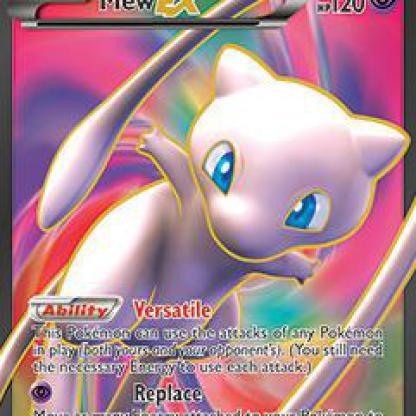Mew: (1, 1, 391, 375)
